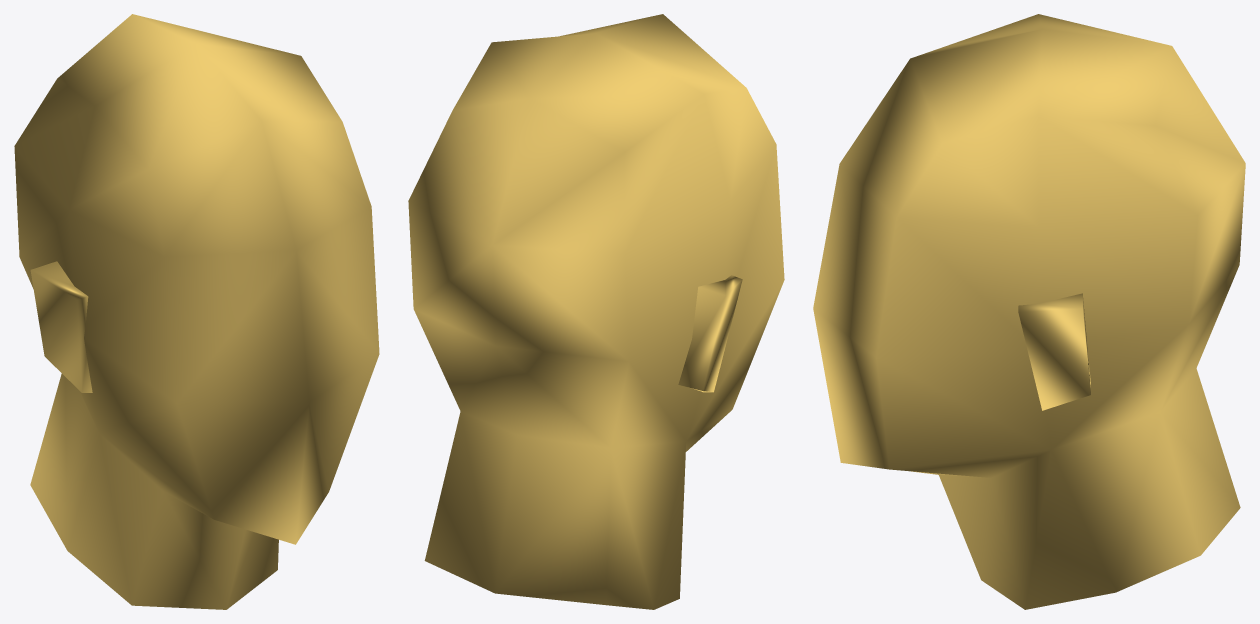
File: crane.glb
The picture shows the model from 3 angles, left to right: view 1: azimuth 30°, elevation 25°; view 2: azimuth 150°, elevation 25°; view 3: azimuth 270°, elevation 25°; orthographic projection. The views are drawn at different scales.
Visible parts, largest first — view 1: Cylinder; view 2: Cylinder; view 3: Cylinder.
Part boxes in pixels (x1=…): Cylinder: x1=14, y1=14, x2=379, y2=609; Cylinder: x1=408, y1=14, x2=784, y2=609; Cylinder: x1=813, y1=14, x2=1245, y2=609.
Size of the model in its own units: 0.1489 by 0.2649 by 0.1885.
